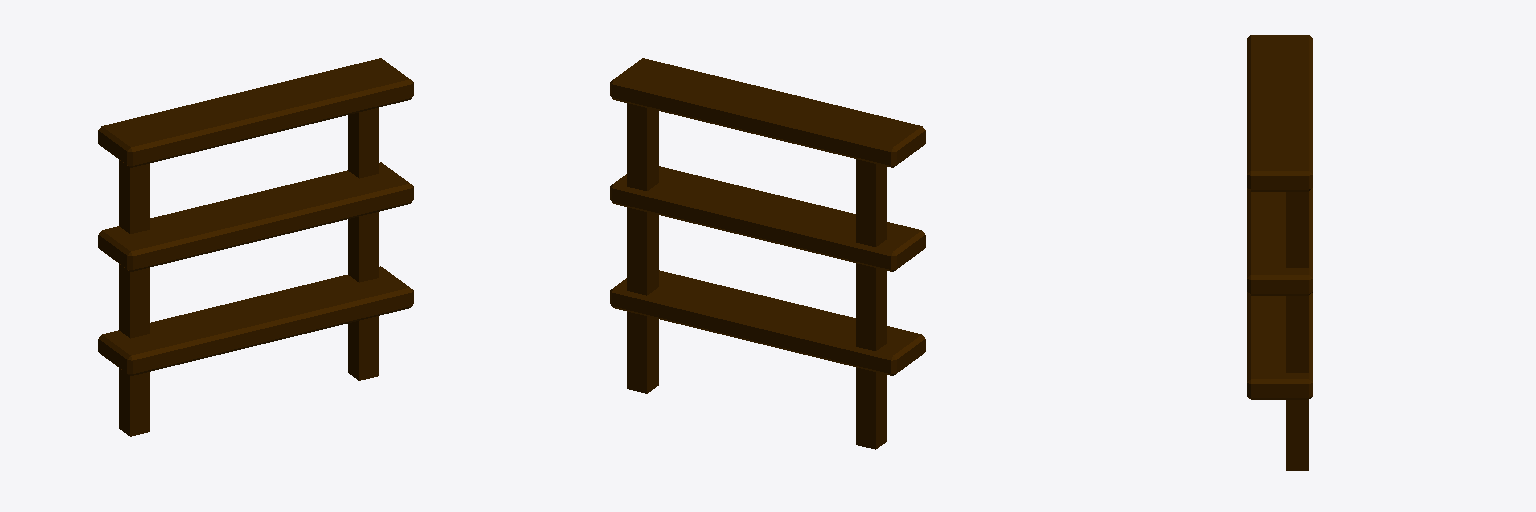
The model's file is Showcase01_bakery.obj.
3 views of the same model, side by side, from view 1: azimuth 30°, elevation 25°; view 2: azimuth 150°, elevation 25°; view 3: azimuth 270°, elevation 25° (orthographic).
Visible parts, largest first — view 1: Showcase01_Bakery_Cube.007; view 2: Showcase01_Bakery_Cube.007; view 3: Showcase01_Bakery_Cube.007.
Boxes of the visible parts, x1=… form: Showcase01_Bakery_Cube.007: x1=98, y1=58, x2=413, y2=436; Showcase01_Bakery_Cube.007: x1=610, y1=58, x2=925, y2=449; Showcase01_Bakery_Cube.007: x1=1247, y1=35, x2=1312, y2=470.
Size of the model in its own units: 2.33 by 2.38 by 0.4643.